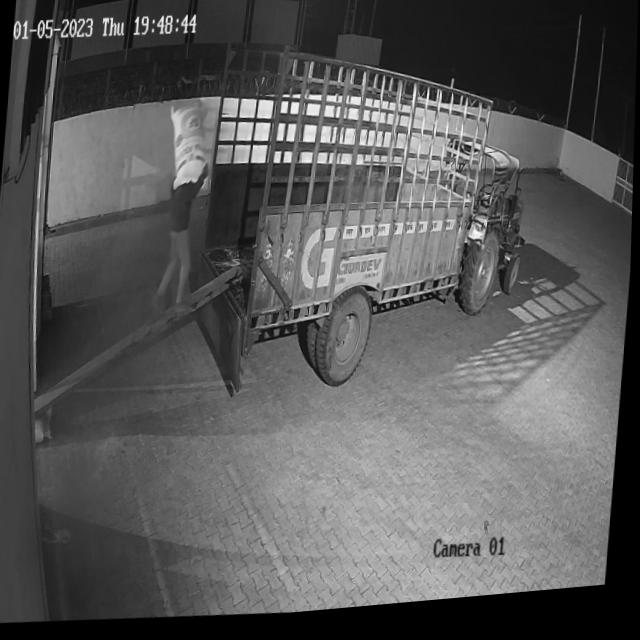sack: (165, 104, 211, 193)
